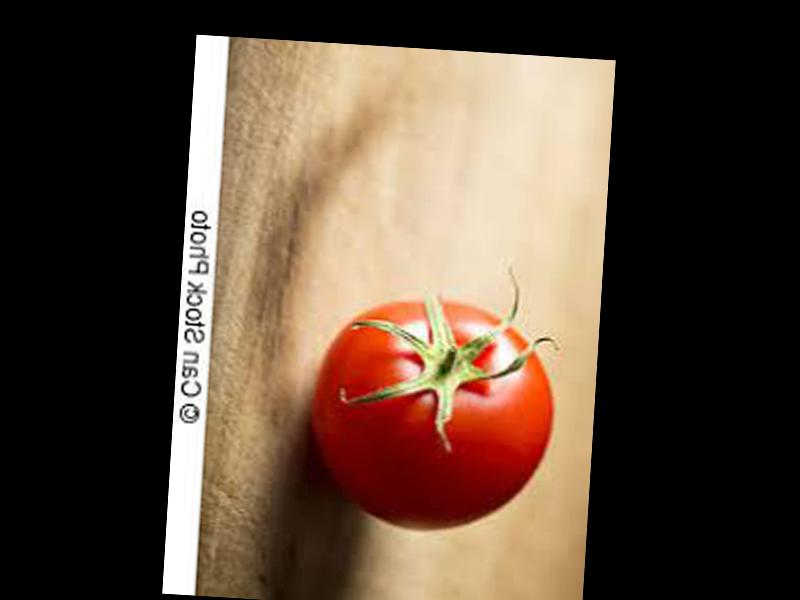Tomato: (307, 290, 556, 535)
